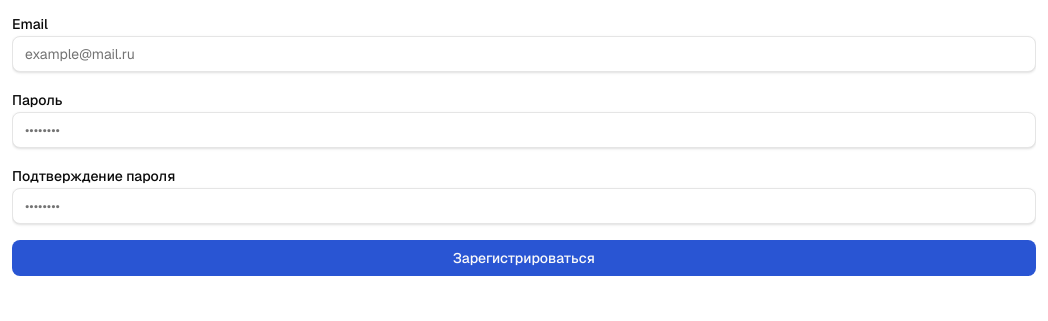
Test: RegisterForm › validates password mismatch
In the field labelled "Email": (524, 54) [12,36,1036,72], type "test@example.com"
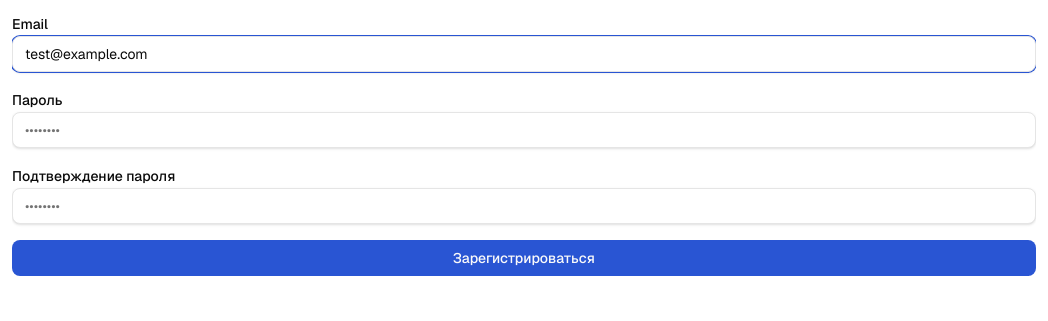
In the password field labelled "Пароль": (524, 130) [12,112,1036,148], type "password123"
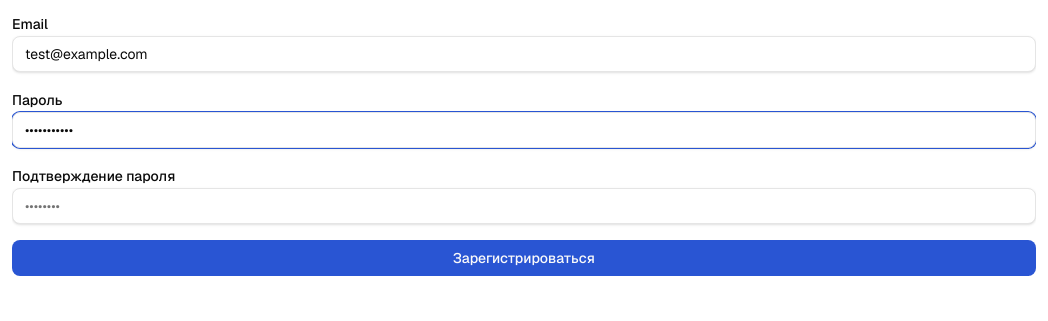
In the password field labelled "Подтверждение пароля": (524, 206) [12,188,1036,224], type "differentpassword"
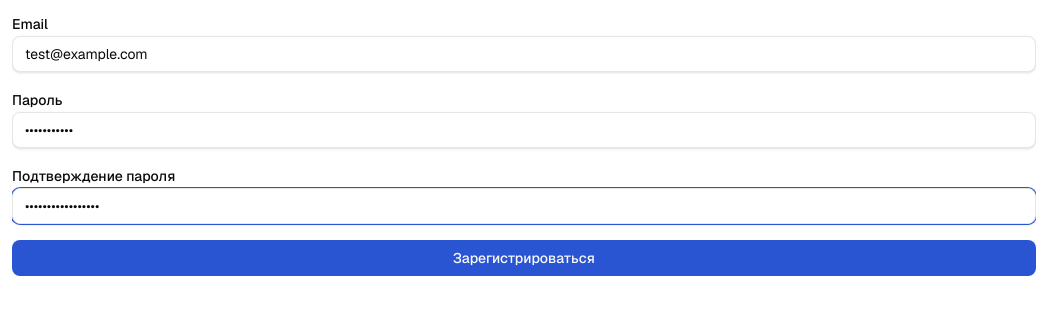
Click the button "Зарегистрироваться": (524, 258) [12,240,1036,276]
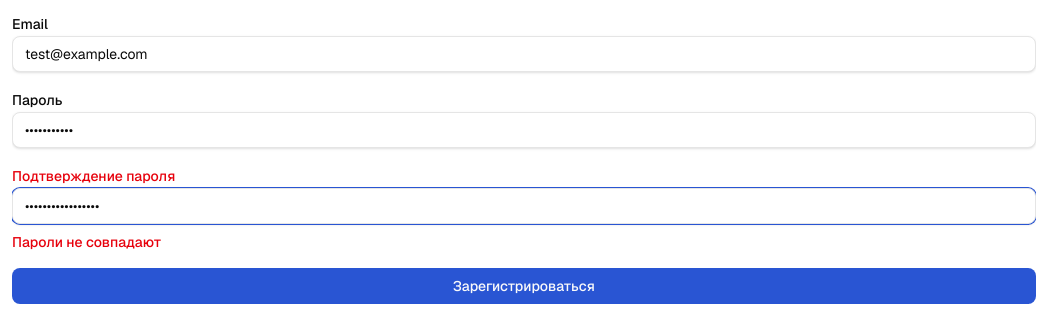
expect the text "Пароли не совпадают" is shown: met, box [12,233,162,251]
